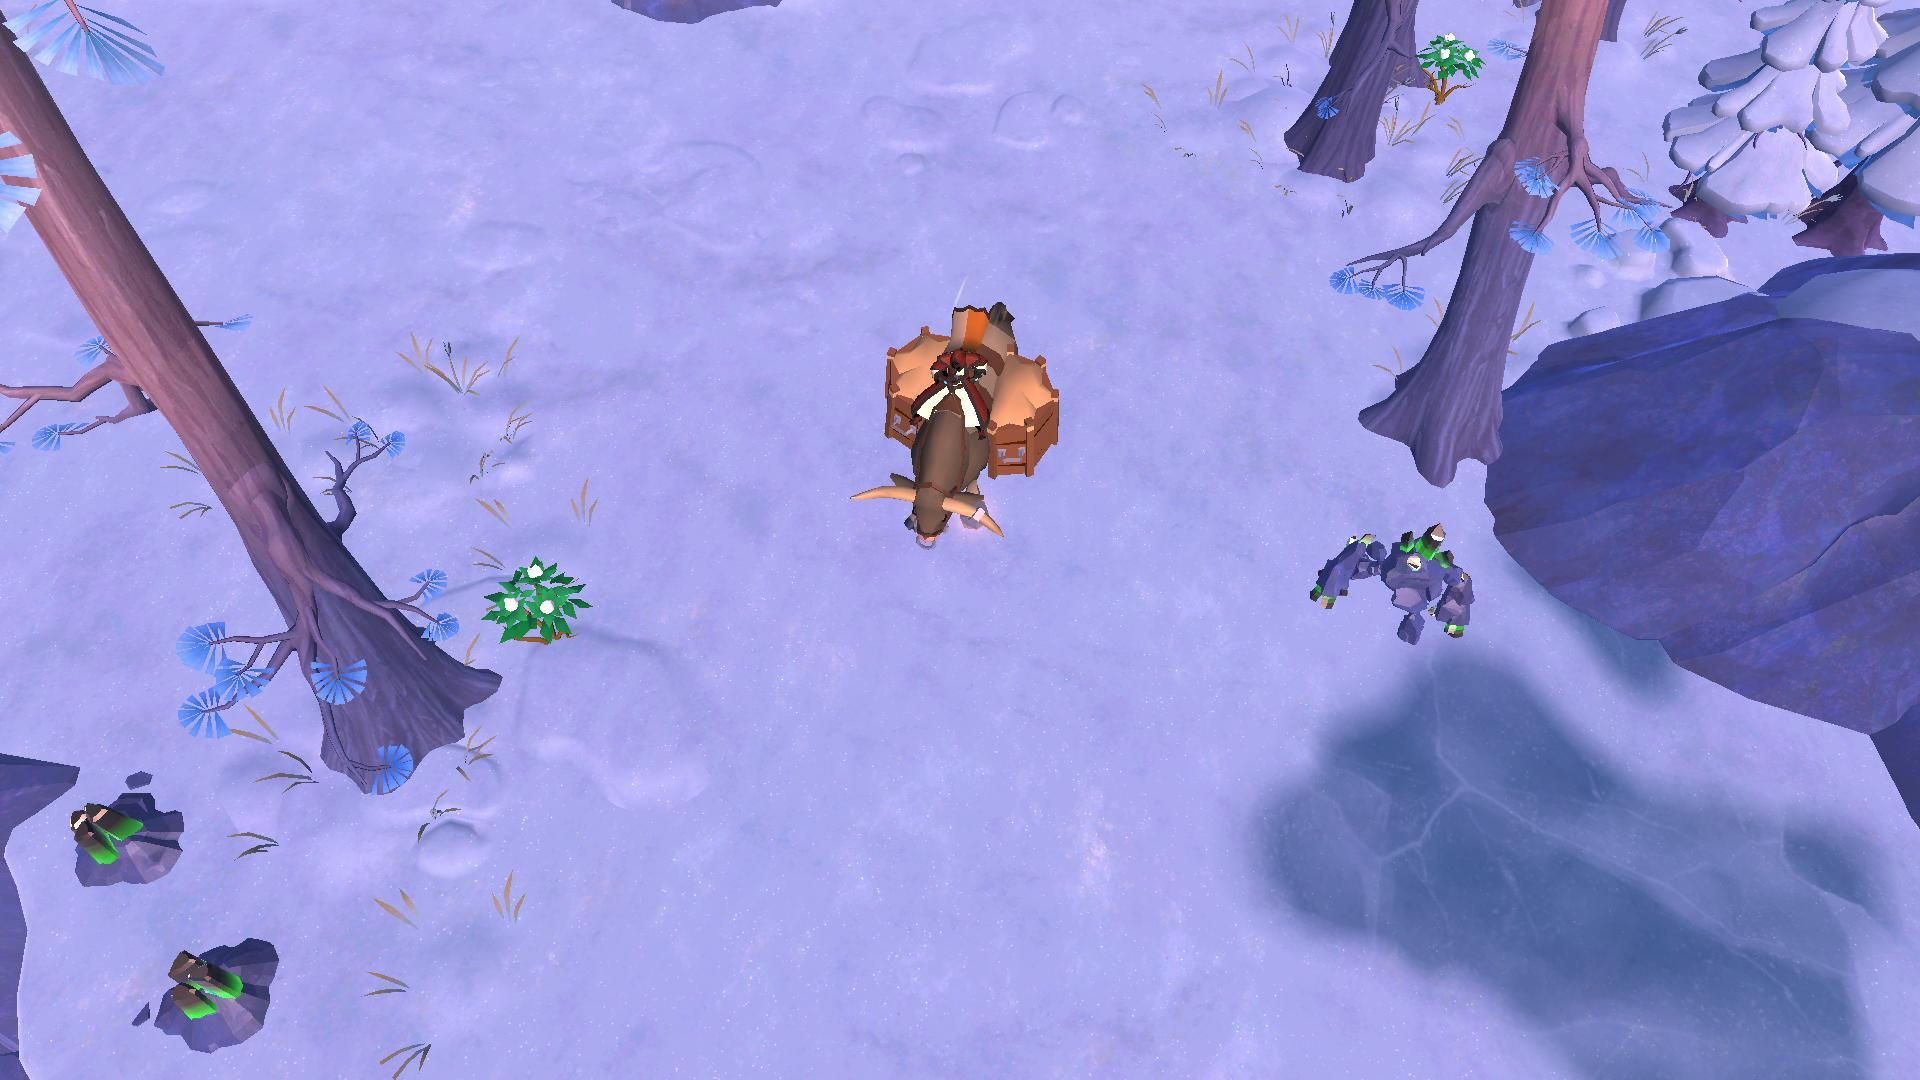fiber_t3: (481, 551, 593, 650), (1412, 22, 1484, 92)
ore_t3: (166, 939, 245, 1026), (62, 794, 141, 861)
